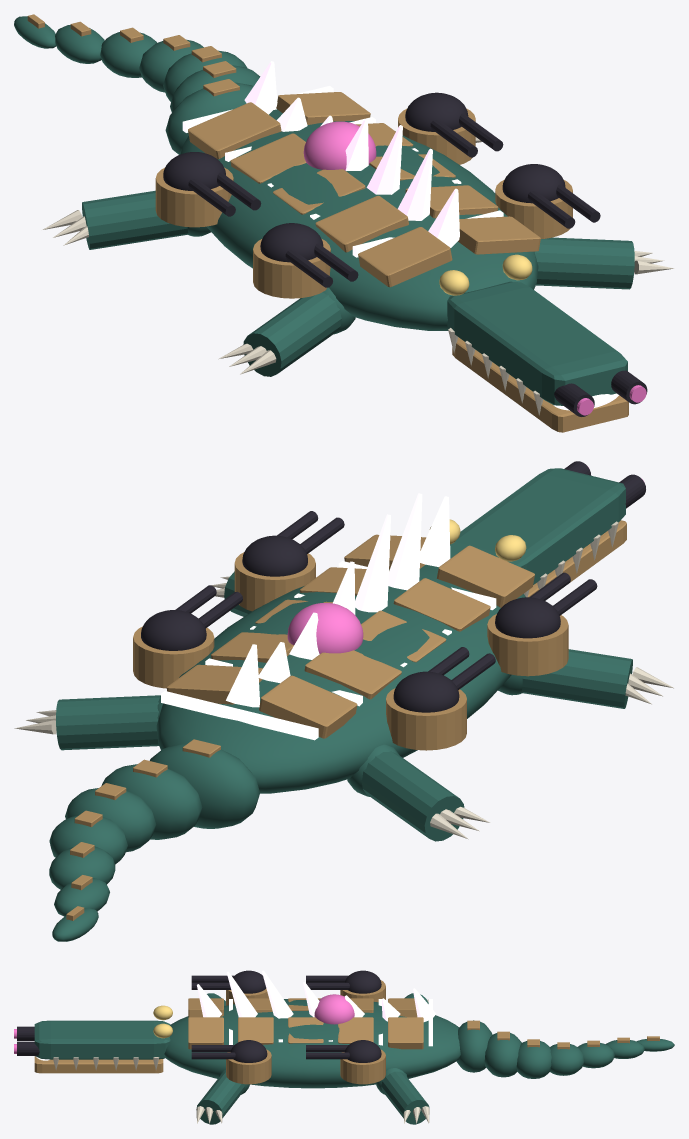
Rendered from SM_Keeper_Sobek.fbx.
The picture shows the model from 3 angles, top to bottom: view 1: azimuth 30°, elevation 25°; view 2: azimuth 150°, elevation 25°; view 3: azimuth 270°, elevation 25°; orthographic projection. The views are drawn at different scales.
Parts seen in each view (by area): view 1: SM_Keeper_Sobek; view 2: SM_Keeper_Sobek; view 3: SM_Keeper_Sobek.
Boxes of the visible parts, bbox=[...] form: SM_Keeper_Sobek: bbox=[14, 14, 674, 432]; SM_Keeper_Sobek: bbox=[14, 461, 673, 941]; SM_Keeper_Sobek: bbox=[14, 970, 674, 1124].
Size of the model in its own units: 4.14 by 1.57 by 9.26.
